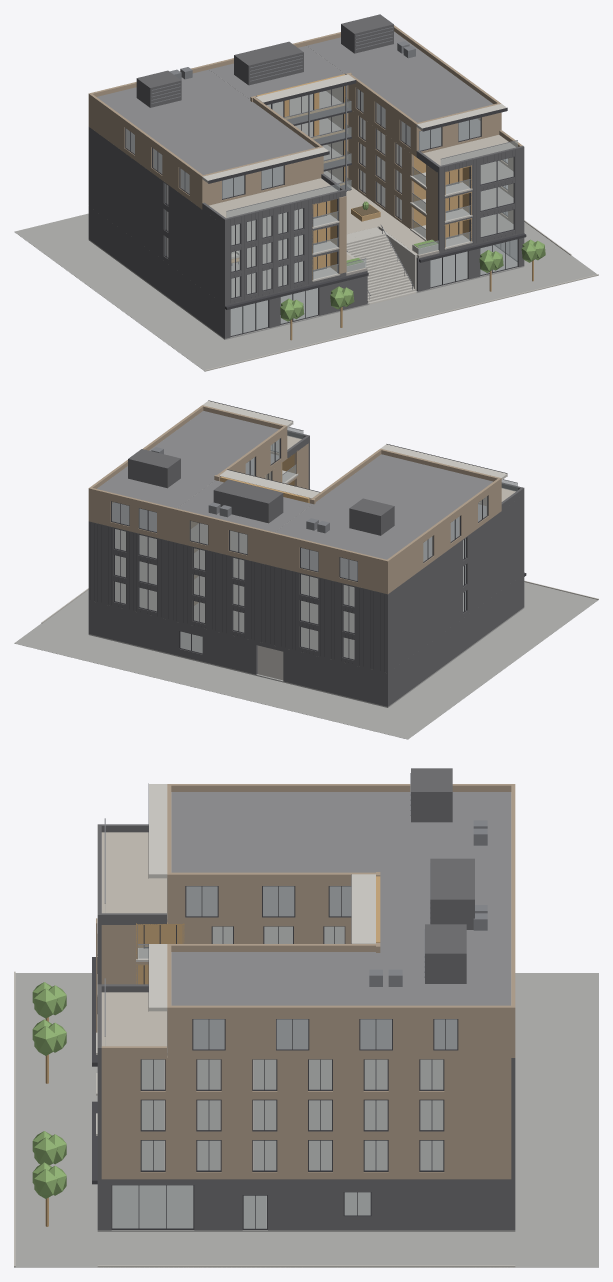
File: clay-courtyard-mixed-use-midrise-clay-v007.glb
3 views of the same model, one above another, from view 1: azimuth 30°, elevation 25°; view 2: azimuth 150°, elevation 25°; view 3: azimuth 270°, elevation 25° (orthographic). The views are drawn at different scales.
Visible parts, largest first — view 1: CLAY_WALL, CLAY_MEMBRANE, CLAY_FOUNDATION, CLAY_GLASS, CLAY_TAN, CLAY_TRIM, CLAY_FLOOR, CLAY_CONCRETE, CLAY_SAND, CLAY_CEDAR, CLAY_HARDWARE, CLAY_PALE (+3 smaller); view 2: CLAY_WALL, CLAY_MEMBRANE, CLAY_FOUNDATION, CLAY_TAN, CLAY_GLASS, CLAY_FLOOR, CLAY_TRIM, CLAY_JOINT, CLAY_PALE, CLAY_HARDWARE, CLAY_CEDAR; view 3: CLAY_TAN, CLAY_FOUNDATION, CLAY_MEMBRANE, CLAY_WALL, CLAY_GLASS, CLAY_FLOOR, CLAY_TRIM, CLAY_SAND, CLAY_PALE, CLAY_PLANTING, CLAY_STONE, CLAY_HARDWARE (+1 smaller).
Part boxes in pixels (<box>): CLAY_WALL: <box>88,14,524,338</box>; CLAY_MEMBRANE: <box>97,31,505,198</box>; CLAY_FOUNDATION: <box>14,212,596,371</box>; CLAY_GLASS: <box>125,86,517,335</box>; CLAY_TAN: <box>88,25,522,273</box>; CLAY_TRIM: <box>124,80,526,336</box>; CLAY_FLOOR: <box>166,54,513,297</box>; CLAY_CONCRETE: <box>312,172,472,304</box>; CLAY_SAND: <box>209,135,515,273</box>; CLAY_CEDAR: <box>256,74,471,279</box>; CLAY_HARDWARE: <box>151,27,517,299</box>; CLAY_PALE: <box>202,74,506,182</box>; CLAY_WALL: <box>88,430,524,706</box>; CLAY_MEMBRANE: <box>97,411,493,580</box>; CLAY_FOUNDATION: <box>14,582,598,739</box>; CLAY_TAN: <box>88,405,501,605</box>; CLAY_GLASS: <box>112,427,517,659</box>; CLAY_FLOOR: <box>115,476,465,659</box>; CLAY_TRIM: <box>111,400,526,660</box>; CLAY_JOINT: <box>90,523,384,671</box>; CLAY_PALE: <box>203,401,507,680</box>; CLAY_HARDWARE: <box>151,427,517,533</box>; CLAY_CEDAR: <box>220,450,309,503</box>; CLAY_TAN: <box>96,784,515,1179</box>; CLAY_FOUNDATION: <box>14,973,598,1267</box>; CLAY_MEMBRANE: <box>167,792,510,1051</box>; CLAY_WALL: <box>97,768,515,1230</box>; CLAY_GLASS: <box>105,886,457,1228</box>; CLAY_FLOOR: <box>101,792,511,1170</box>; CLAY_TRIM: <box>92,783,458,1229</box>; CLAY_SAND: <box>102,832,166,1046</box>; CLAY_PALE: <box>149,784,375,1011</box>; CLAY_PLANTING: <box>32,982,66,1198</box>; CLAY_STONE: <box>14,971,515,1267</box>; CLAY_HARDWARE: <box>104,773,487,1036</box>.
Size of the model in its own units: 50 by 20.66 by 42.
